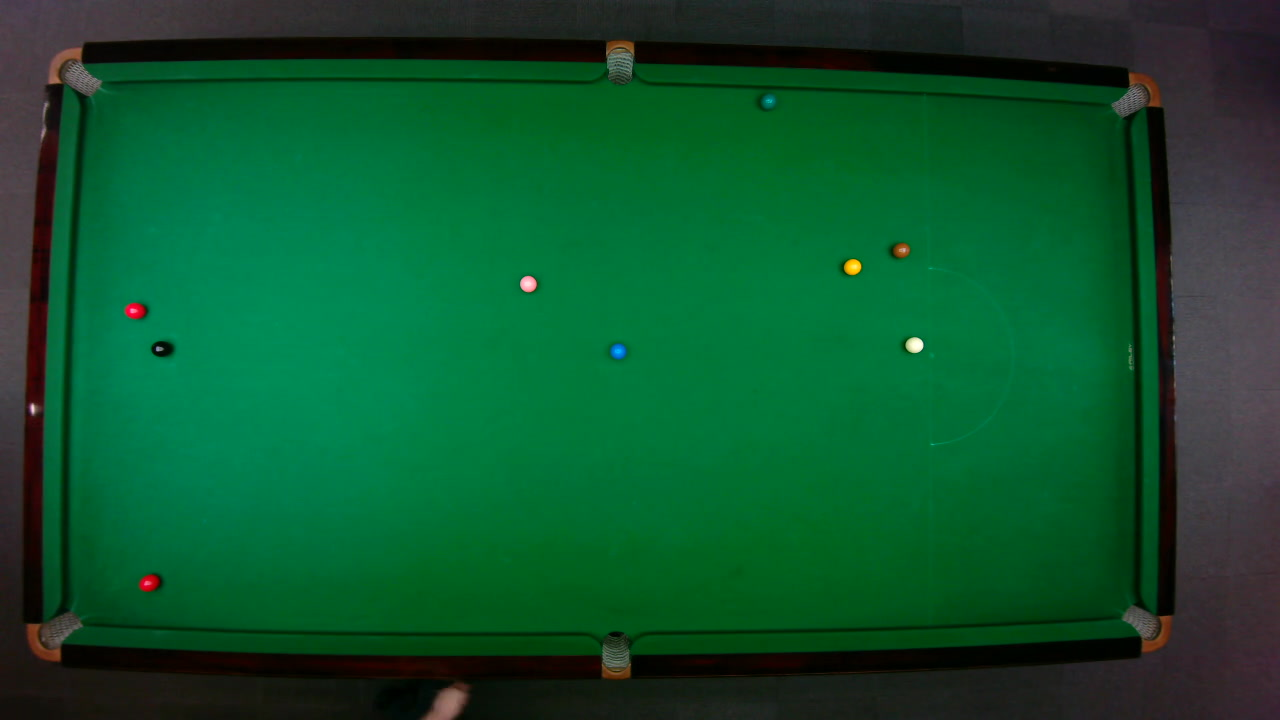bag: (25, 609, 84, 662), (46, 46, 101, 96), (1119, 603, 1171, 652), (1109, 71, 1161, 118), (600, 629, 629, 680), (605, 38, 633, 85)
black: (149, 339, 171, 357)
blue: (608, 342, 626, 359)
brown: (890, 241, 911, 258)
green: (759, 92, 776, 110)
pink: (518, 274, 537, 292)
red: (137, 572, 161, 592), (123, 301, 146, 319)
white: (903, 335, 924, 354)
yellow: (841, 257, 862, 275)
zone: (927, 265, 1013, 445)
